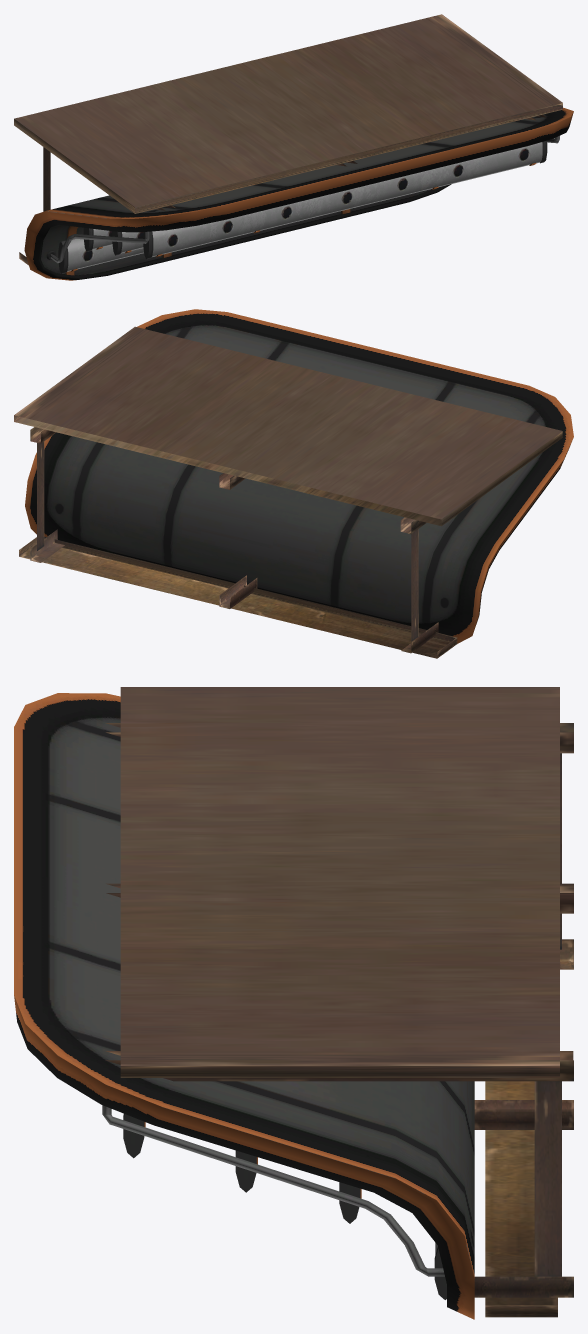
Rendered from nt_hydro_cabbage_holders_LOD2.obj.
3 views of the same model, one above another, from view 1: azimuth 30°, elevation 25°; view 2: azimuth 150°, elevation 25°; view 3: azimuth 270°, elevation 25° (orthographic). The views are drawn at different scales.
Parts seen in each view (by area): view 1: mtl_p_jun_bench_wood_weathered01, mtl_nt_hydro_cabbage_holders, nt_2020_pipes_ceramic_holes; view 2: mtl_p_jun_bench_wood_weathered01, mtl_nt_hydro_cabbage_holders; view 3: mtl_p_jun_bench_wood_weathered01, mtl_nt_hydro_cabbage_holders, nt_2020_pipes_ceramic_holes.
Part boxes in pixels (box(x1,y1,x2,y2)): mtl_p_jun_bench_wood_weathered01: box(14, 14, 562, 265); mtl_nt_hydro_cabbage_holders: box(24, 107, 573, 280); nt_2020_pipes_ceramic_holes: box(58, 140, 547, 273); mtl_p_jun_bench_wood_weathered01: box(14, 326, 562, 658); mtl_nt_hydro_cabbage_holders: box(25, 309, 573, 643); mtl_p_jun_bench_wood_weathered01: box(105, 687, 573, 1317); mtl_nt_hydro_cabbage_holders: box(14, 693, 474, 1319); nt_2020_pipes_ceramic_holes: box(123, 1114, 446, 1299).
Size of the model in its own units: 325 by 113 by 192.
